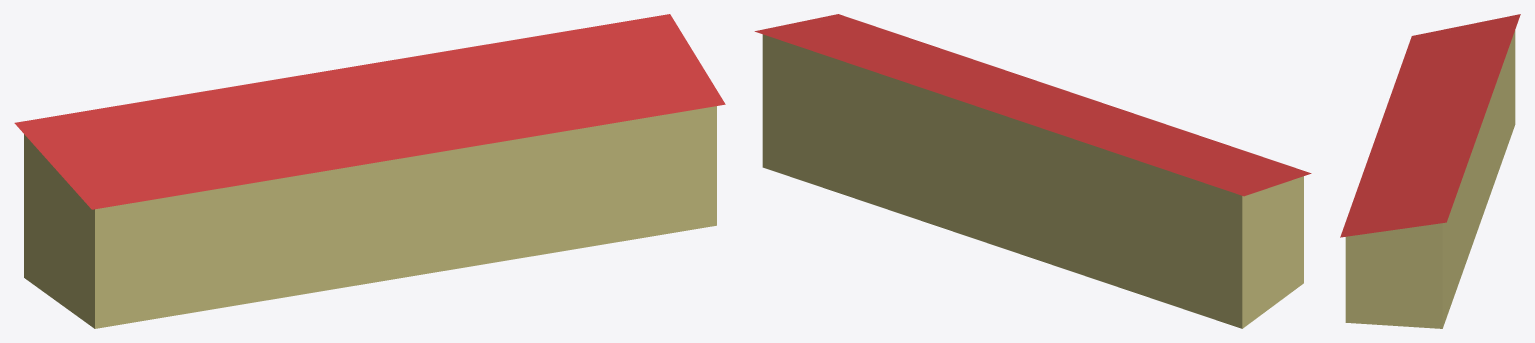
The picture shows the model from 3 angles, left to right: view 1: azimuth 30°, elevation 25°; view 2: azimuth 150°, elevation 25°; view 3: azimuth 270°, elevation 25°; orthographic projection. The views are drawn at different scales.
Size of the model in its own units: 25.76 by 9.43 by 6.26.
